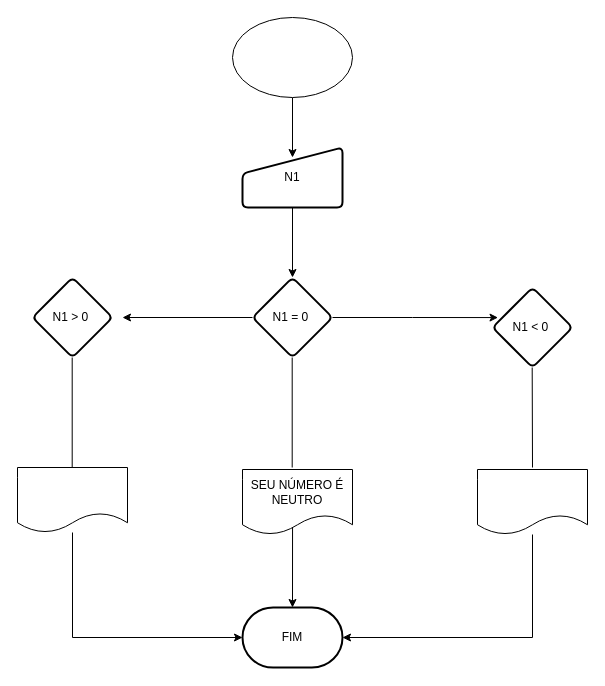
Some shapes in this 605 by 686 pixel diagram are drawn without their labels. The box of each missing label's shape, as (x1, y1, x2, y2) in pixels:
Inicio: (232, 16, 352, 98)
SEU NÚMERO É NEGATIVO: (476, 468, 588, 534)
SEU NÚMERO É POSITIVO: (16, 466, 128, 532)
